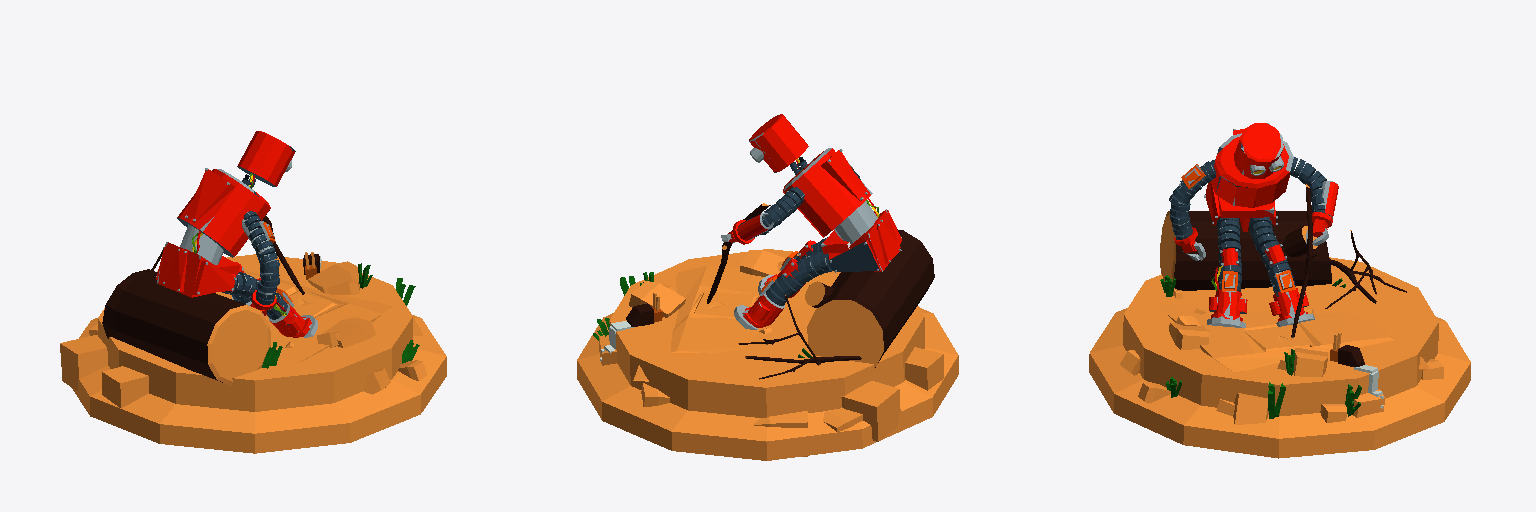
3 views of the same model, side by side, from view 1: azimuth 30°, elevation 25°; view 2: azimuth 150°, elevation 25°; view 3: azimuth 270°, elevation 25° (orthographic).
Visible parts, largest first — view 1: group[number redacted], group[number redacted], group[number redacted], group[number redacted], group[number redacted], group[number redacted], group[number redacted], group[number redacted], group[number redacted], group[number redacted], group[number redacted], group[number redacted] (+3 smaller); view 2: group[number redacted], group[number redacted], group[number redacted], group[number redacted], group[number redacted], group[number redacted], group[number redacted], group[number redacted], group[number redacted], group[number redacted], group[number redacted], group[number redacted] (+6 smaller); view 3: group[number redacted], group[number redacted], group[number redacted], group[number redacted], group[number redacted], group[number redacted], group[number redacted], group[number redacted], group[number redacted], group[number redacted], group[number redacted], group[number redacted] (+3 smaller).
Part boxes in pixels (x1,y1,x2,y2): group[number redacted]: (71, 254, 446, 453); group[number redacted]: (102, 269, 270, 385); group[number redacted]: (216, 270, 391, 364); group[number redacted]: (177, 169, 270, 257); group[number redacted]: (237, 131, 295, 186); group[number redacted]: (60, 335, 107, 390); group[number redacted]: (102, 366, 148, 408); group[number redacted]: (185, 168, 234, 222); group[number redacted]: (243, 279, 311, 337); group[number redacted]: (157, 242, 214, 297); group[number redacted]: (187, 261, 236, 294); group[number redacted]: (322, 317, 375, 347); group[number redacted]: (577, 249, 958, 460); group[number redacted]: (807, 229, 934, 368); group[number redacted]: (633, 265, 838, 381); group[number redacted]: (783, 148, 872, 237); group[number redacted]: (841, 381, 900, 441); group[number redacted]: (749, 114, 808, 172); group[number redacted]: (742, 259, 812, 327); group[number redacted]: (721, 187, 804, 244); group[number redacted]: (905, 347, 943, 390); group[number redacted]: (828, 240, 880, 272); group[number redacted]: (629, 281, 685, 317); group[number redacted]: (834, 201, 877, 243); group[number redacted]: (1089, 257, 1470, 458); group[number redacted]: (1158, 304, 1429, 371); group[number redacted]: (1160, 211, 1331, 290); group[number redacted]: (1211, 133, 1293, 207); group[number redacted]: (1234, 123, 1283, 178); group[number redacted]: (1290, 157, 1338, 245); group[number redacted]: (1209, 241, 1247, 321); group[number redacted]: (1259, 241, 1308, 321); group[number redacted]: (1233, 393, 1268, 424); group[number redacted]: (1293, 348, 1327, 376); group[number redacted]: (1169, 323, 1209, 349); group[number redacted]: (1291, 183, 1316, 337).
Size of the model in its own units: 2.74 by 2.08 by 2.74.